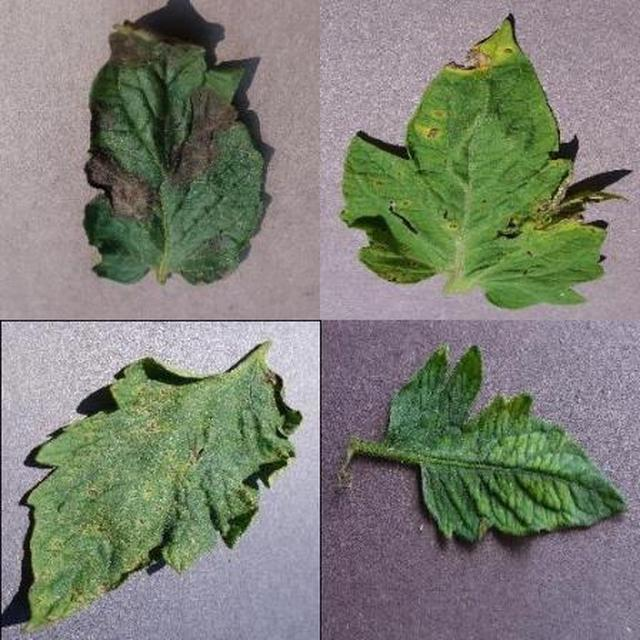Late Blight Leaf: (232, 221, 640, 640)
